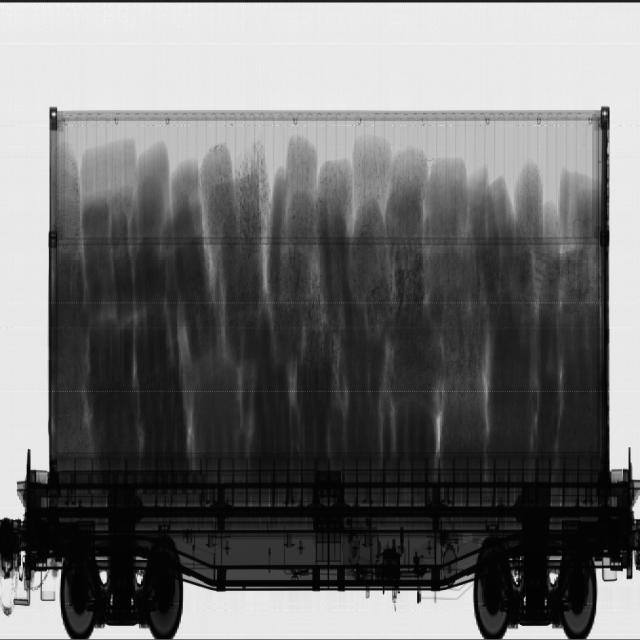clothes: (93, 245, 434, 461)
textiles: (54, 135, 601, 458)
